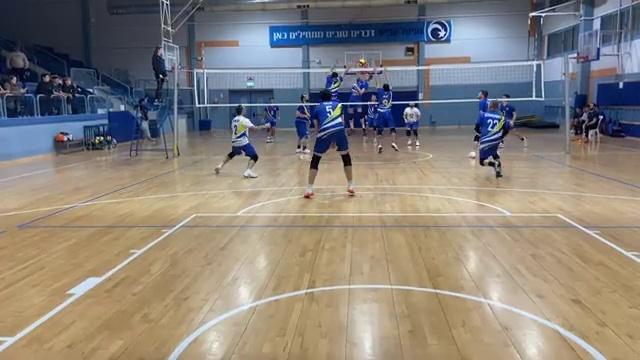ball: (357, 58, 369, 70)
